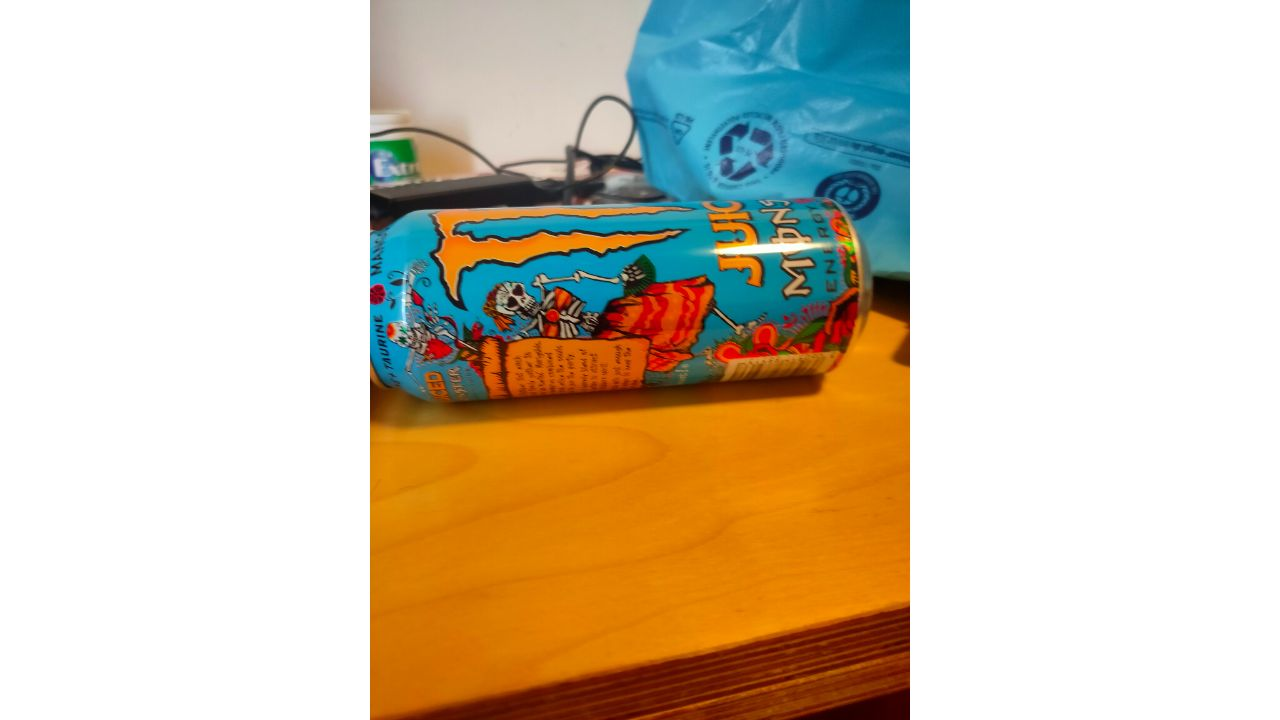Can: (371, 201, 874, 412)
